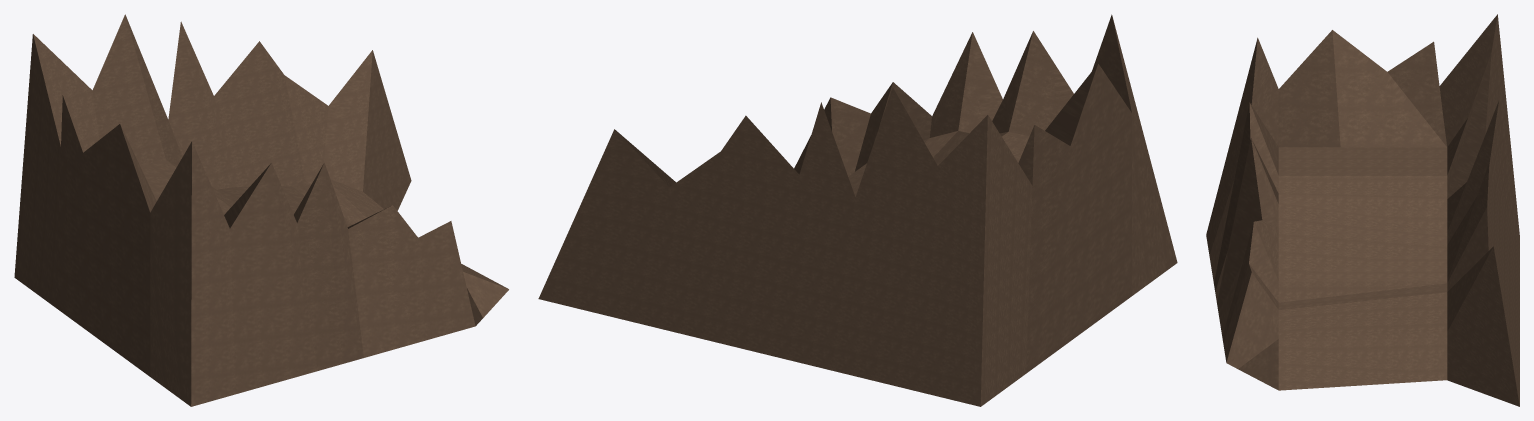
The model's file is mountains.glb.
3 renders of one model, left to right at view 1: azimuth 30°, elevation 25°; view 2: azimuth 150°, elevation 25°; view 3: azimuth 270°, elevation 25°, orthographic. The views are drawn at different scales.
Parts seen in each view (by area): view 1: Berg2, Berg1, Berg3, Weide; view 2: Berg1, Berg3, Berg2, Weide; view 3: Weide, Berg1, Berg2, Berg3.
Boxes of the visible parts, x1,y1,x2,y2 form: Berg2: [150, 141, 508, 406]; Berg1: [14, 14, 411, 306]; Berg3: [55, 95, 156, 376]; Weide: [140, 160, 507, 288]; Berg1: [538, 87, 1032, 406]; Berg3: [1018, 63, 1131, 373]; Berg2: [794, 14, 1177, 295]; Weide: [848, 131, 1029, 196]; Weide: [1278, 147, 1447, 390]; Berg1: [1439, 14, 1519, 406]; Berg2: [1206, 37, 1278, 390]; Berg3: [1278, 30, 1446, 147].
Size of the model in its own units: 410 by 245 by 311.
1 material, 1 textured.
